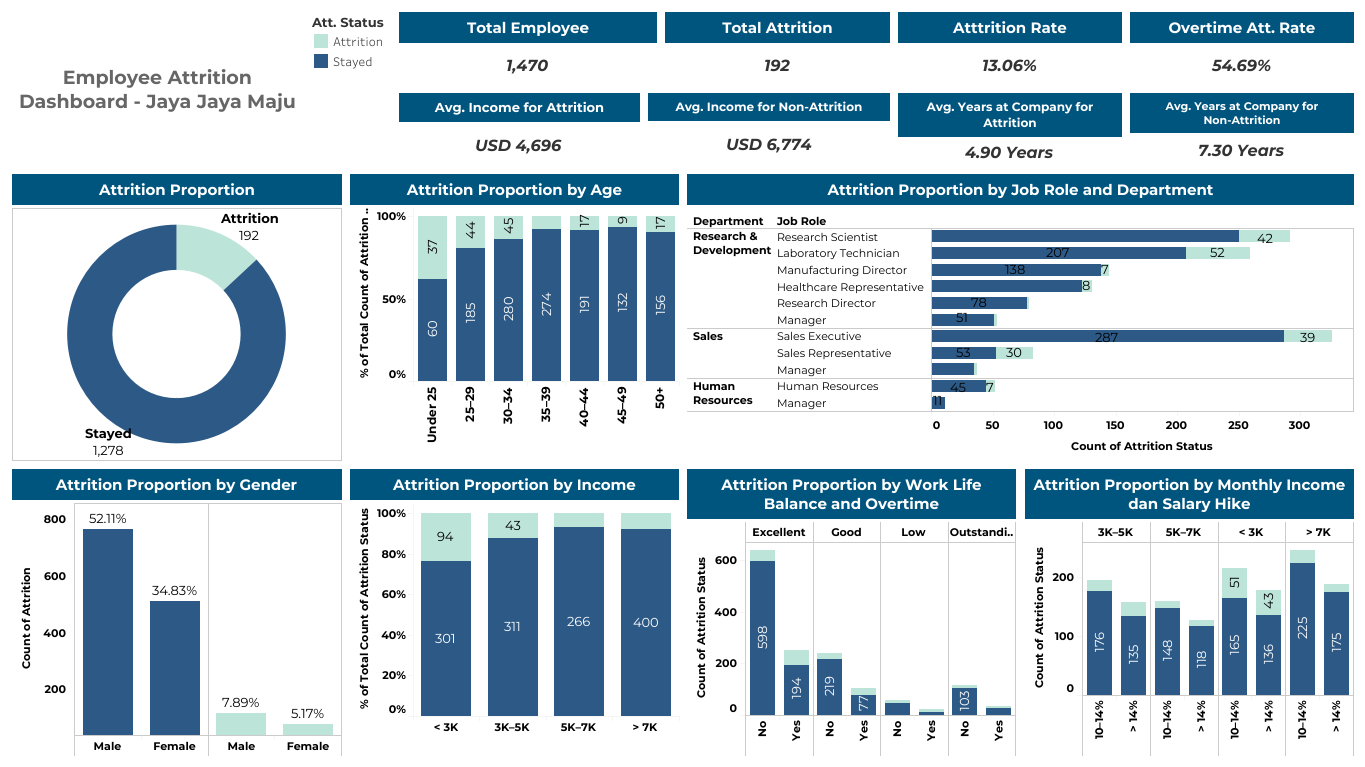

The dashboard page shown, as its layout file describes it:
{"tool":"tableau","page":{"name":"Dashboard 1","canvas":[1366,768],"ordinal":0},"visuals":[{"type":"text","box":[8,8,299.1,162.1]},{"type":"legend","title":"Attrition Proportion","param":"[federated.12akd6r0yem03q18msxcs11dgks7].[none:Calculation_162692550474452997:nk","box":[307.1,8,87.9,162.1]},{"type":"worksheet","title":"Total Employee","mark":"Automatic","box":[395,8,266.4,81]},{"type":"worksheet","title":"Total Attrition","mark":"Automatic","box":[661.4,8,232.2,81]},{"type":"worksheet","title":"Atttrition Rate","mark":"Automatic","box":[893.6,8,232.2,81]},{"type":"worksheet","title":"Overtime Att. Rate","mark":"Automatic","box":[1125.8,8,232.2,81]},{"type":"worksheet","title":"Avg. Income for Attrition","mark":"Automatic","box":[395,89,249.3,81.1]},{"type":"worksheet","title":"Avg. Income for Non-Attrition","mark":"Automatic","box":[644.3,89,249.3,81.1]},{"type":"worksheet","title":"Avg. Years at Company for Attrition","mark":"Automatic","box":[893.6,89,232.2,81.1]},{"type":"worksheet","title":"Avg. Years at Company for Non-Attrition","mark":"Automatic","box":[1125.8,89,232.2,81.1]},{"type":"worksheet","title":"Attrition Proportion","mark":"Pie","rows":["Calculation_162692550483243016","Calculation_162692550483243016"],"box":[8,170.1,337.5,294.9]},{"type":"worksheet","title":"Attrition Proportion by Age","mark":"Automatic","cols":["Calculation_1046523977386524672"],"box":[345.5,170.1,337.5,294.9]},{"type":"worksheet","title":"Attrition Proportion by Job Role and Department","mark":"Automatic","rows":["Department","JobRole"],"cols":["Calculation_162692550474452997"],"box":[683,170.1,675,294.9]},{"type":"worksheet","title":"Attrition Proportion by Gender","mark":"Automatic","rows":["Attrition"],"cols":["Attrition","Gender"],"box":[8,465,337.5,295]},{"type":"worksheet","title":"Attrition Proportion by Income","mark":"Automatic","cols":["Calculation_1046523977386663937"],"box":[345.5,465,337.5,295]},{"type":"worksheet","title":"Attrition Proportion by Work Life Balance and Overtime","mark":"Automatic","rows":["Calculation_162692550474452997"],"cols":["WorkLifeBalance","OverTime"],"box":[683,465,337.5,295]},{"type":"worksheet","title":"Attrition Proportion by Monthly Income dan Salary Hike","mark":"Automatic","rows":["Calculation_162692550474452997"],"cols":["Calculation_1046523977386663937","Calculation_1046523977394532358"],"box":[1020.5,465,337.5,295]}]}

Visuals, with their boxes in screenshot pixels (x1, y1, x2, y2), scaled from the page's 1366x768 canvas onto the 1365x767 screenshot:
text: 8:8:307:170
"Attrition Proportion" legend: 307:8:395:170
"Total Employee" worksheet: 395:8:661:89
"Total Attrition" worksheet: 661:8:893:89
"Atttrition Rate" worksheet: 893:8:1125:89
"Overtime Att. Rate" worksheet: 1125:8:1357:89
"Avg. Income for Attrition" worksheet: 395:89:644:170
"Avg. Income for Non-Attrition" worksheet: 644:89:893:170
"Avg. Years at Company for Attrition" worksheet: 893:89:1125:170
"Avg. Years at Company for Non-Attrition" worksheet: 1125:89:1357:170
"Attrition Proportion" worksheet (Pie marks): 8:170:345:464
"Attrition Proportion by Age" worksheet: 345:170:682:464
"Attrition Proportion by Job Role and Department" worksheet: 682:170:1357:464
"Attrition Proportion by Gender" worksheet: 8:464:345:759
"Attrition Proportion by Income" worksheet: 345:464:682:759
"Attrition Proportion by Work Life Balance and Overtime" worksheet: 682:464:1020:759
"Attrition Proportion by Monthly Income dan Salary Hike" worksheet: 1020:464:1357:759
